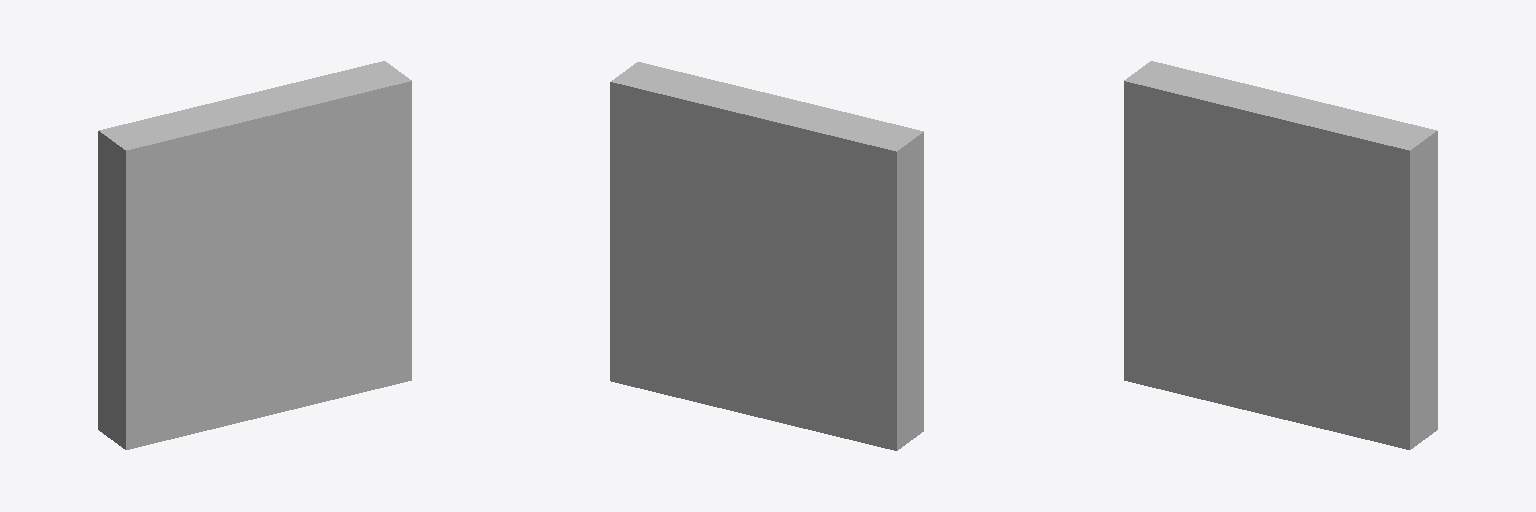
Rendered from model_quest_questboard.obj.
3 views of the same model, side by side, from view 1: azimuth 30°, elevation 25°; view 2: azimuth 150°, elevation 25°; view 3: azimuth 330°, elevation 25° (orthographic).
Parts seen in each view (by area): view 1: pPlane1, pCube1; view 2: pCube1; view 3: pPlane1, pCube1.
Part boxes in pixels (bbox=[...]): pPlane1: bbox=[153, 112, 387, 414]; pCube1: bbox=[98, 61, 411, 449]; pCube1: bbox=[610, 62, 923, 450]; pPlane1: bbox=[1148, 112, 1382, 414]; pCube1: bbox=[1124, 61, 1437, 449].
Bounding box in the file's own units: 6 × 6 × 1.04.